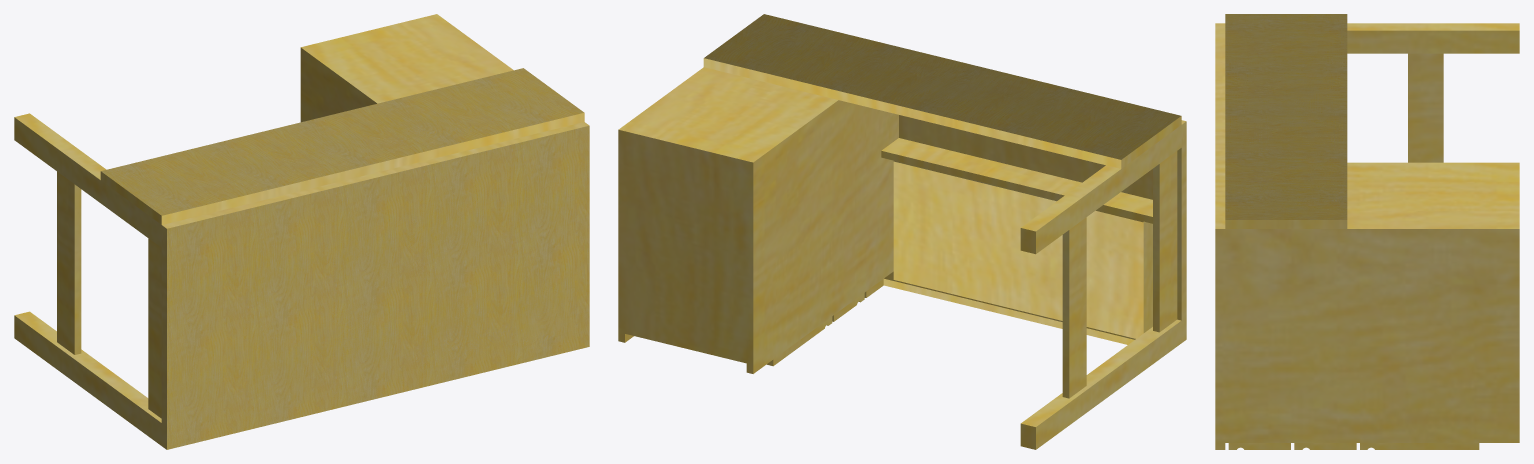
File: table.obj
3 renders of one model, left to right at view 1: azimuth 30°, elevation 25°; view 2: azimuth 150°, elevation 25°; view 3: azimuth 270°, elevation 25°, orthographic.
Parts seen in each view (by area): view 1: obj10, obj16, obj3, obj1, obj15, obj13, obj18, obj11, obj12; view 2: obj3, obj8, obj16, obj11, obj17, obj1, obj13, obj15, obj12, obj18, obj7; view 3: obj3, obj16, obj11, obj14, obj18, obj13, obj15, obj5, obj4, obj6.
Boxes of the visible parts, box(x1,y1,x2,y2) form: obj10: box(167, 125, 589, 449); obj16: box(101, 68, 583, 215); obj3: box(300, 14, 513, 122); obj1: box(14, 311, 161, 445); obj15: box(100, 112, 584, 224); obj13: box(14, 113, 161, 247); obj18: box(57, 171, 81, 354); obj11: box(161, 122, 588, 449); obj12: box(148, 238, 161, 418); obj3: box(618, 67, 898, 373); obj8: box(893, 161, 1152, 338); obj16: box(704, 14, 1180, 159); obj11: box(899, 115, 1186, 342); obj17: box(881, 138, 1152, 223); obj1: box(1020, 319, 1181, 449); obj13: box(1020, 125, 1181, 254); obj15: box(703, 58, 1181, 168); obj12: box(1153, 151, 1177, 332); obj18: box(1062, 217, 1086, 398); obj7: box(883, 271, 1135, 344); obj3: box(1225, 162, 1519, 442); obj16: box(1225, 14, 1347, 219); obj11: box(1215, 23, 1225, 449); obj14: box(1347, 30, 1519, 53); obj18: box(1408, 53, 1443, 162); obj13: box(1347, 23, 1519, 30); obj15: box(1225, 220, 1347, 228); obj5: box(1360, 443, 1479, 449); obj4: box(1294, 443, 1356, 449); obj6: box(1228, 443, 1290, 449).
Size of the model in its own units: 48 by 25 by 30.
Materials: 1 (1 with a texture image).
